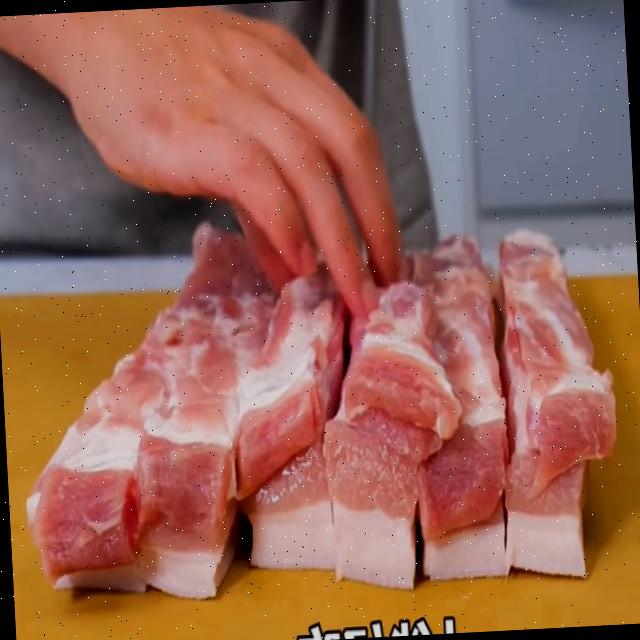meat: (5, 232, 285, 634), (494, 237, 614, 570), (328, 286, 459, 588), (238, 266, 349, 572), (411, 239, 508, 576)
